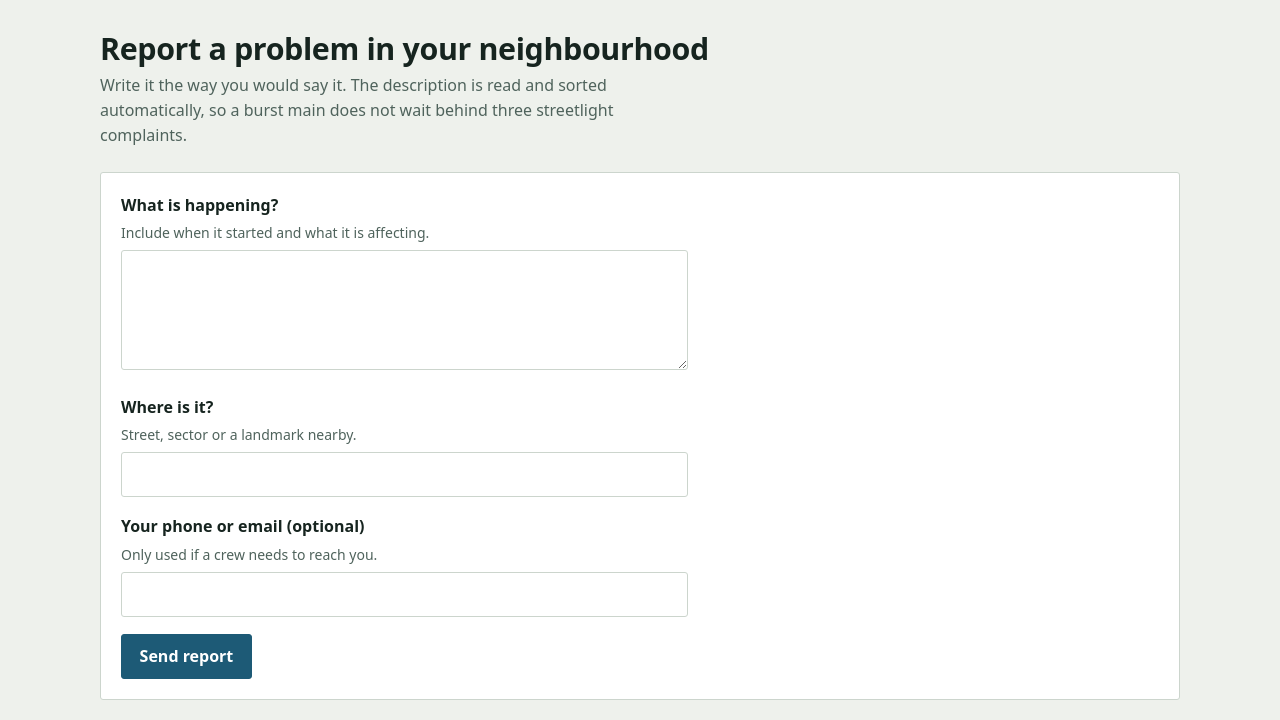
Test: Report a problem › renders the server's field errors when validation disagrees
Type "Streetlights of the whole lane are out since Monday." into the text box labelled "What is happening" at (405, 310), box x1=121 y1=250 x2=688 y2=370
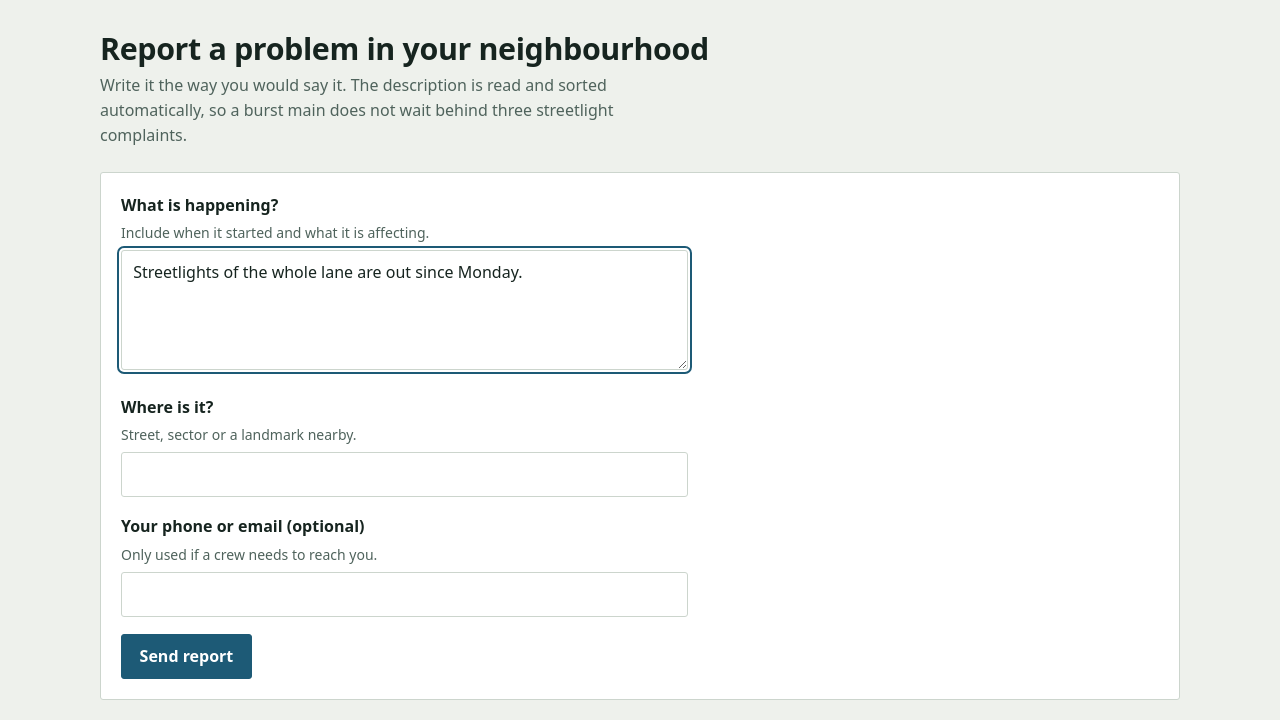
Type "G-9" into the field labelled "Where is it? Street, sector or a landmark nearby." at (405, 475), box x1=121 y1=452 x2=688 y2=497
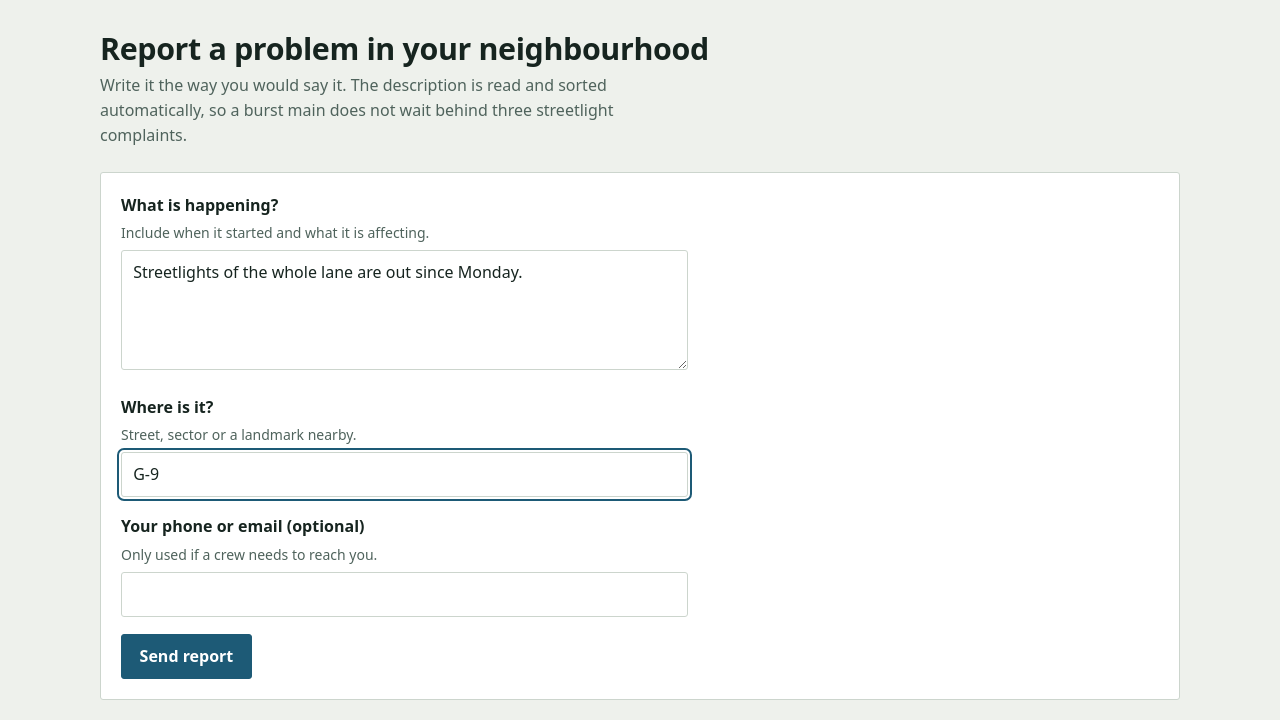
Click the button "Send report" at (186, 656), box x1=121 y1=634 x2=252 y2=678
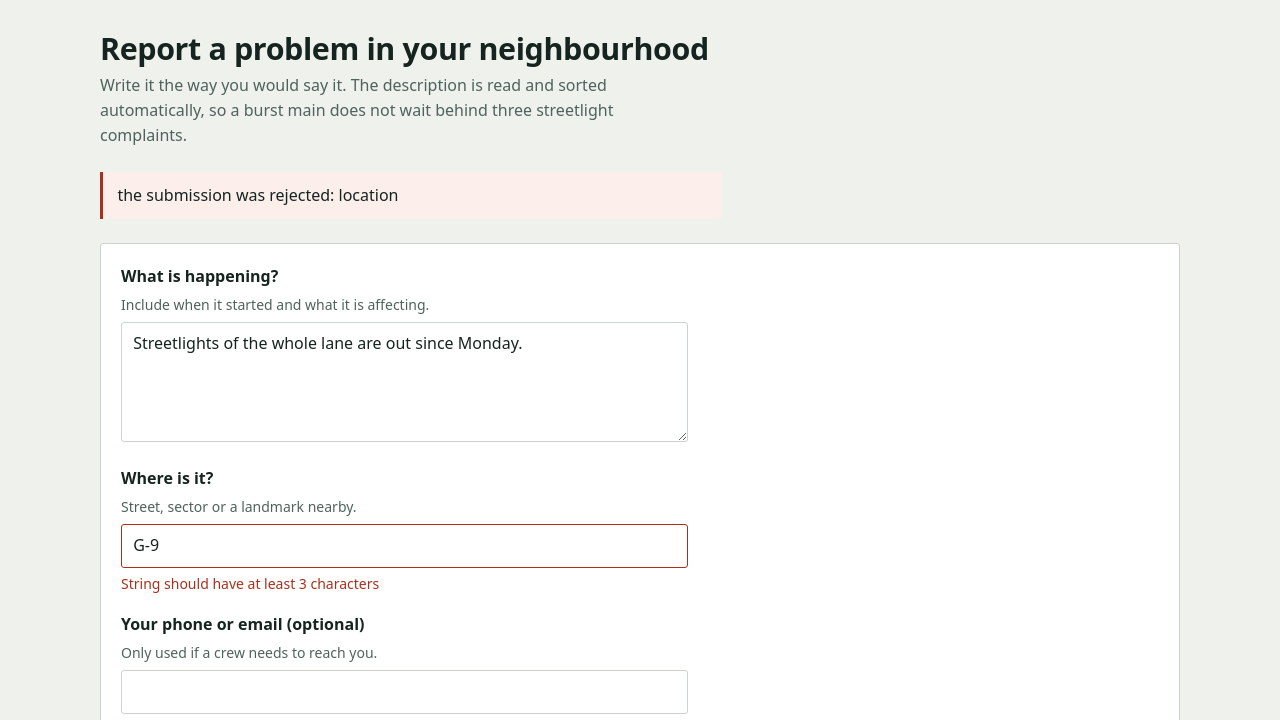
Result: the text "String should have at least 3 characters" is shown at x1=121 y1=574 x2=379 y2=593
